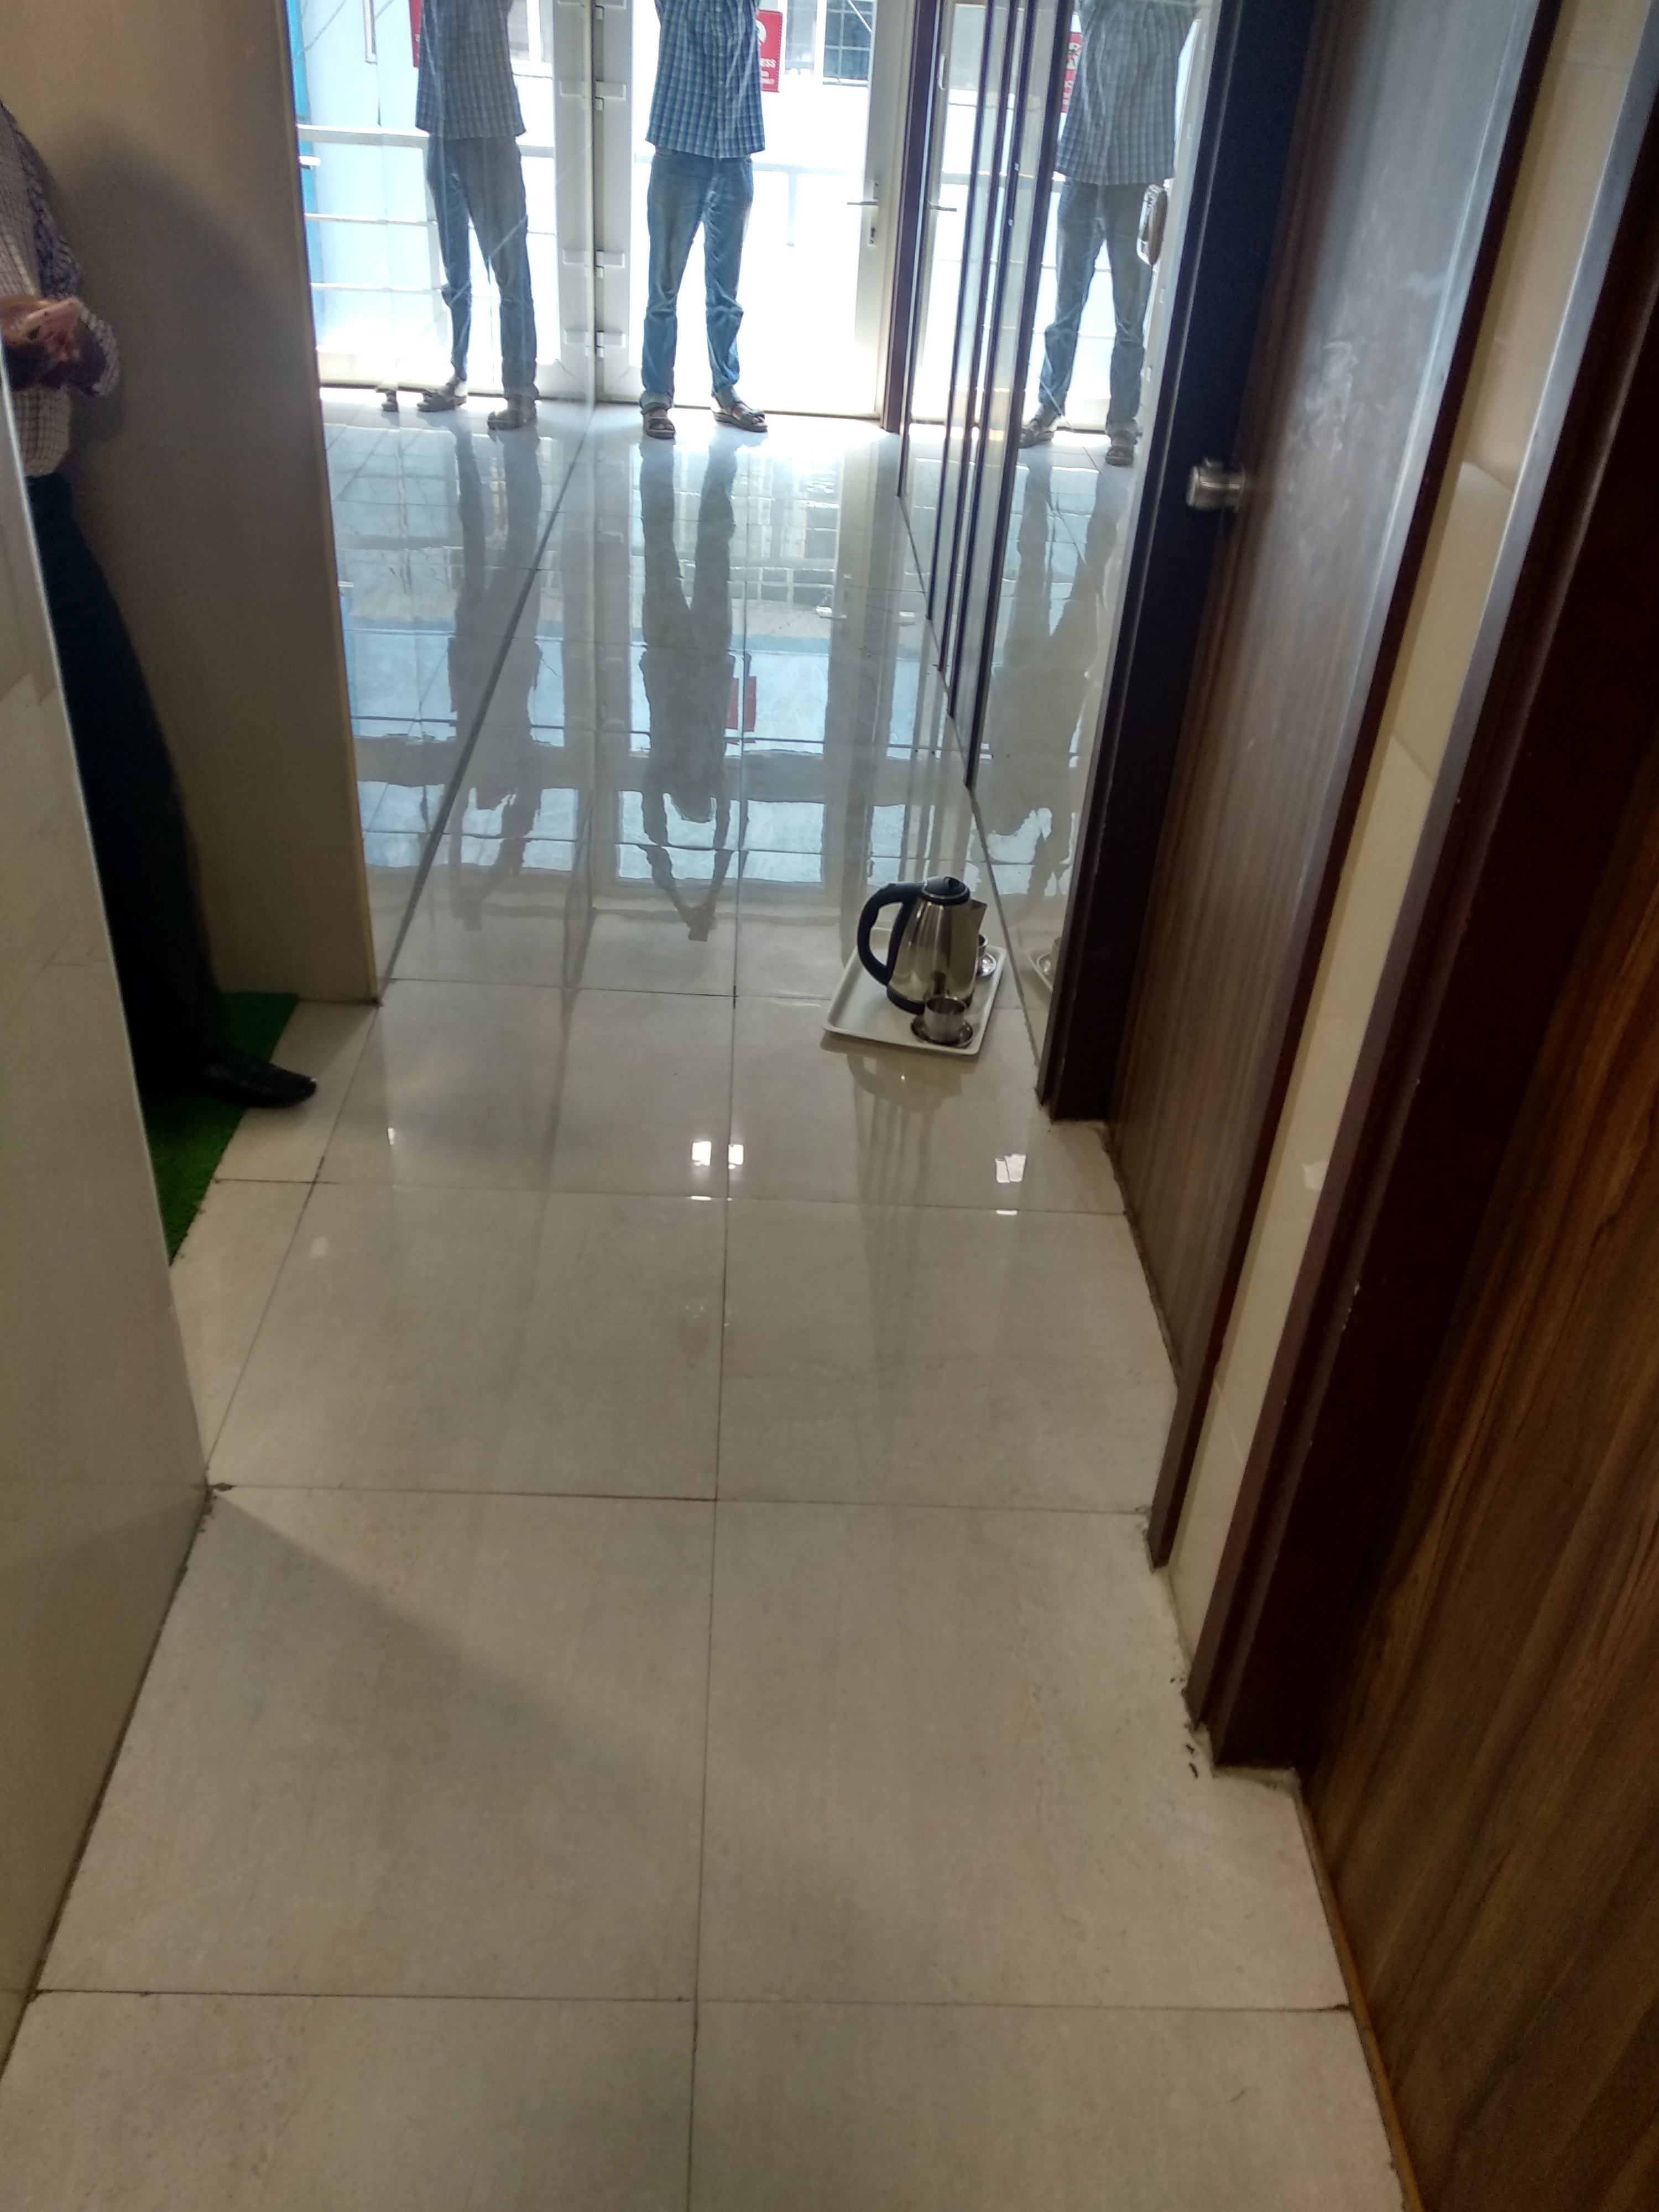CUP: (922, 1000, 971, 1045)
FLASK: (887, 881, 981, 1003)
